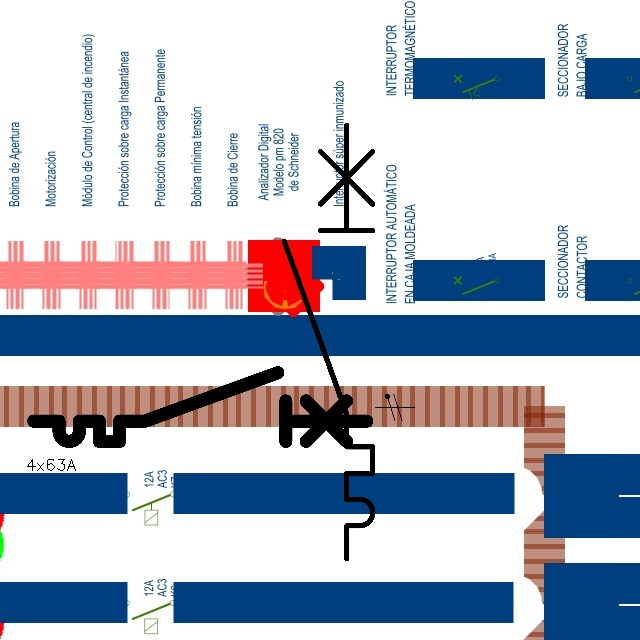interruptor_termomagnetico: (273, 114, 384, 570), (25, 364, 376, 450)
